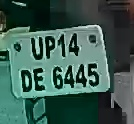1: (57, 33, 68, 58)
4: (67, 32, 82, 57), (63, 64, 76, 90), (75, 63, 88, 88)
5: (86, 61, 102, 88)
6: (51, 64, 64, 89)
D: (20, 67, 34, 94)
E: (32, 65, 48, 93)
P: (45, 35, 57, 61)
U: (30, 36, 45, 61)
